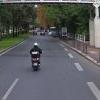Motorcycle: (27, 38, 59, 79)
